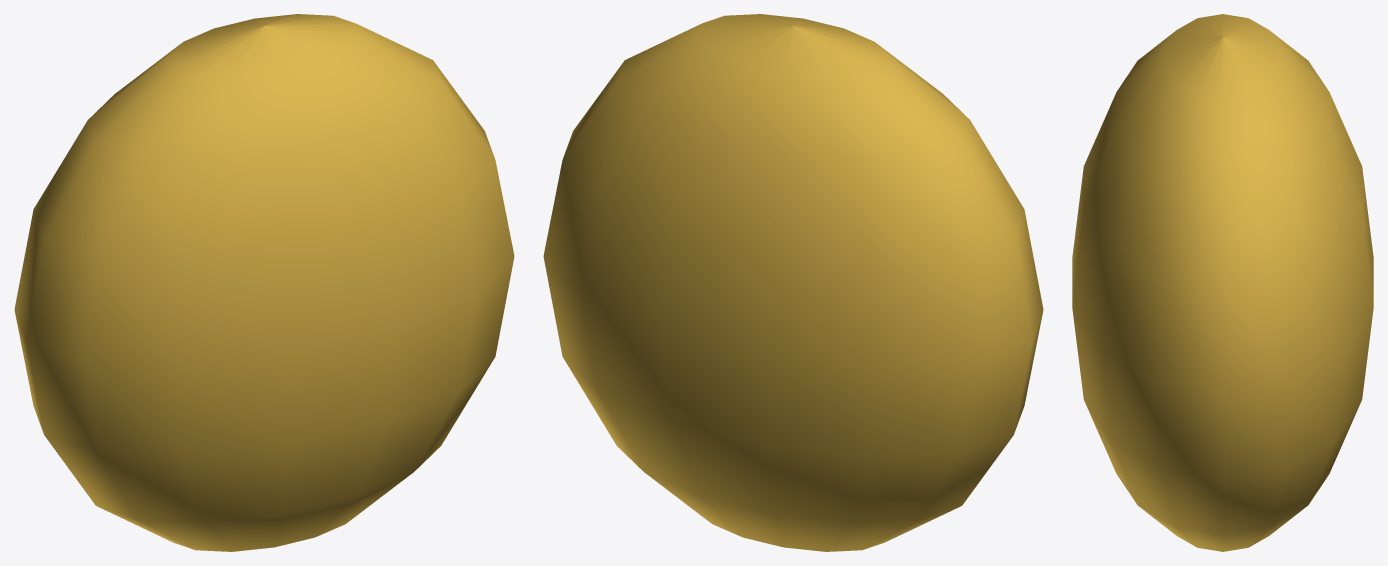
File: hips.obj
3 views of the same model, side by side, from view 1: azimuth 30°, elevation 25°; view 2: azimuth 150°, elevation 25°; view 3: azimuth 270°, elevation 25° (orthographic). The views are drawn at different scales.
Parts seen in each view (by area): view 1: hips; view 2: hips; view 3: hips.
Boxes of the visible parts, x1,y1,x2,y2 form: hips: (14, 14, 514, 551); hips: (543, 14, 1043, 551); hips: (1072, 14, 1373, 551).
Bounding box in the file's own units: 0.1865 × 0.192 × 0.107.
